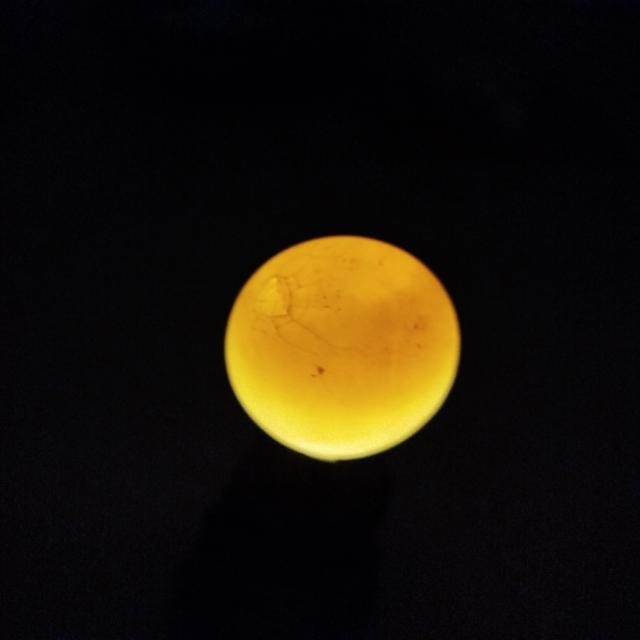Rachadura: (250, 276, 308, 333)
